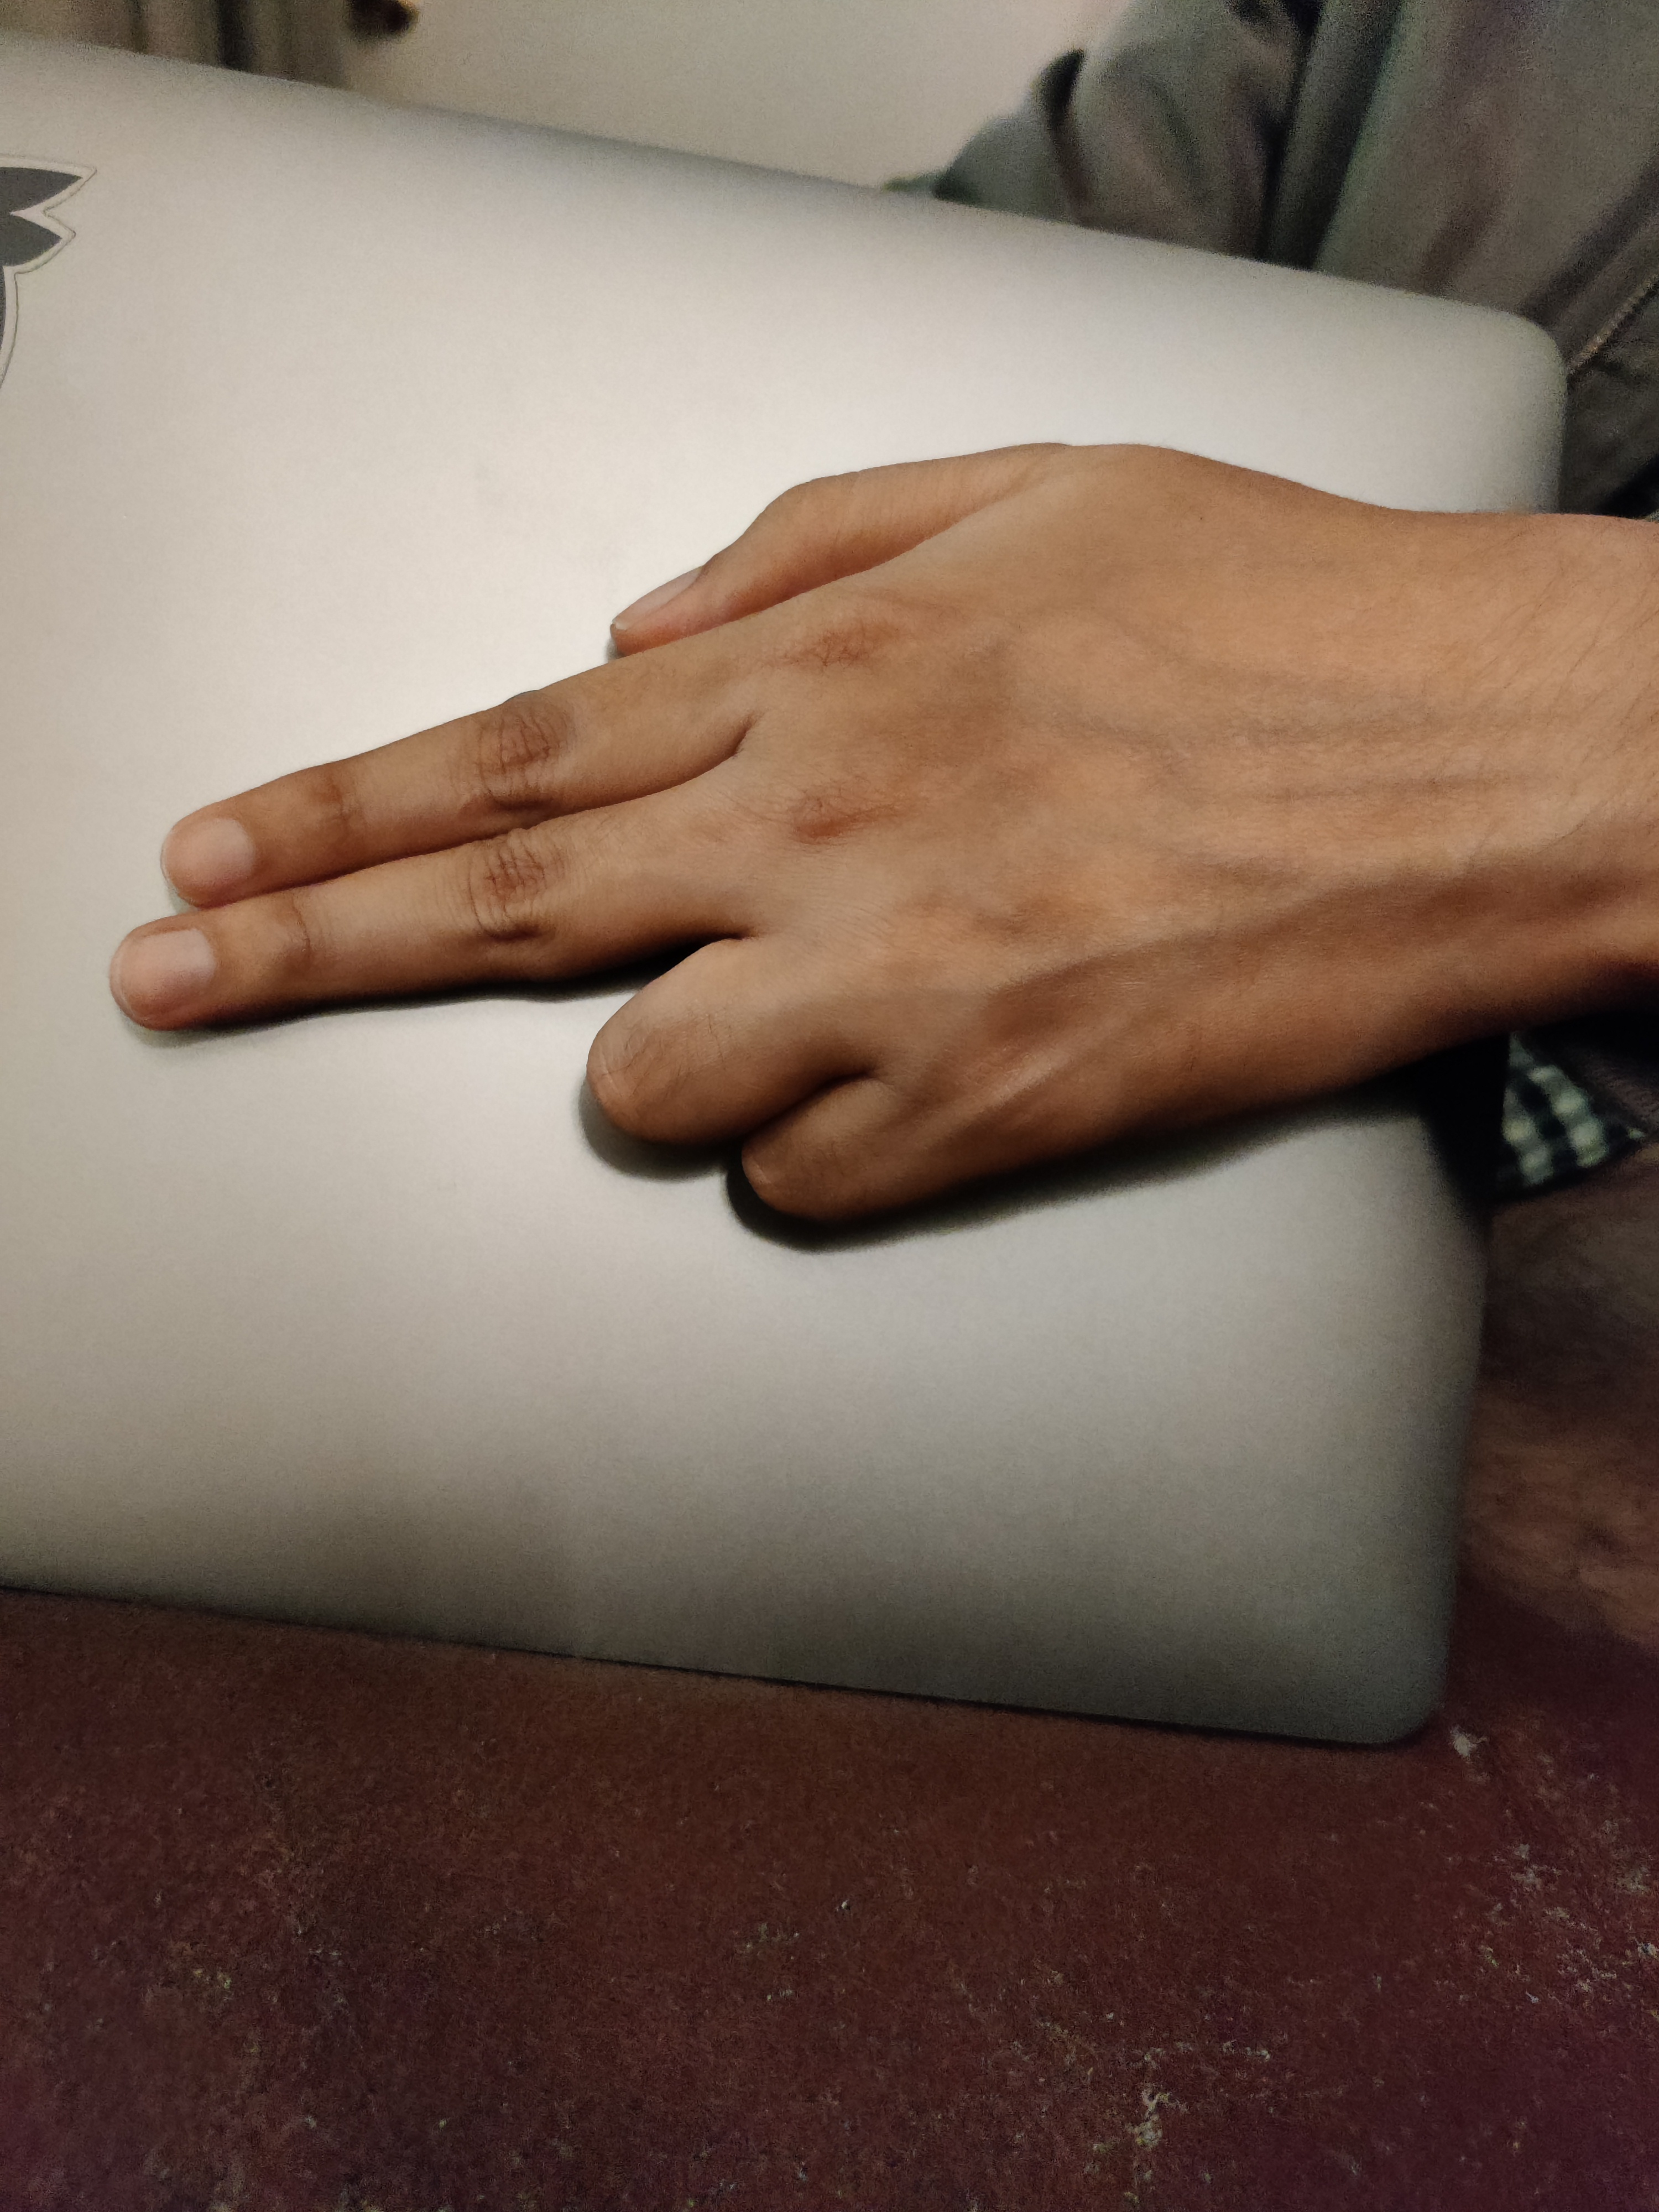right: (54, 331, 1593, 1515)
